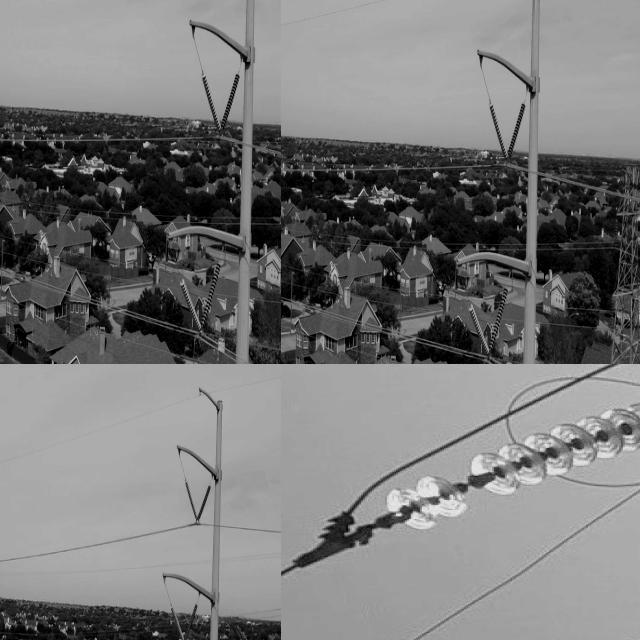杆塔: (606, 159, 640, 364)
正常绝缘子: (342, 388, 640, 553), (199, 262, 222, 332), (487, 287, 510, 356), (178, 467, 202, 529), (178, 277, 204, 334), (218, 72, 241, 135), (201, 70, 223, 134), (488, 100, 510, 163), (505, 102, 527, 163), (468, 302, 491, 357), (192, 479, 215, 533), (178, 597, 204, 640), (165, 590, 187, 640), (609, 294, 616, 338), (612, 212, 621, 244), (637, 285, 640, 319)
绝缘子破损: (458, 467, 485, 495)
